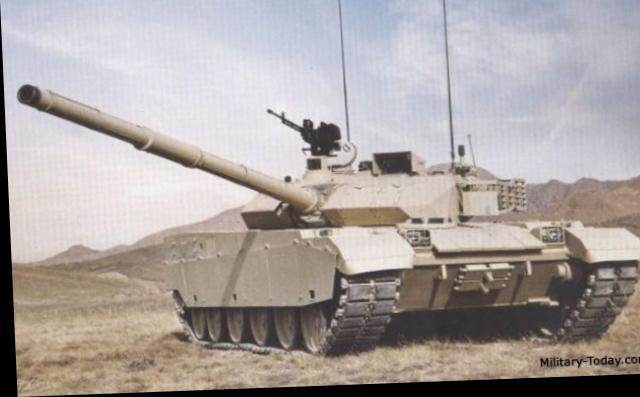tank: (170, 172, 629, 352)
